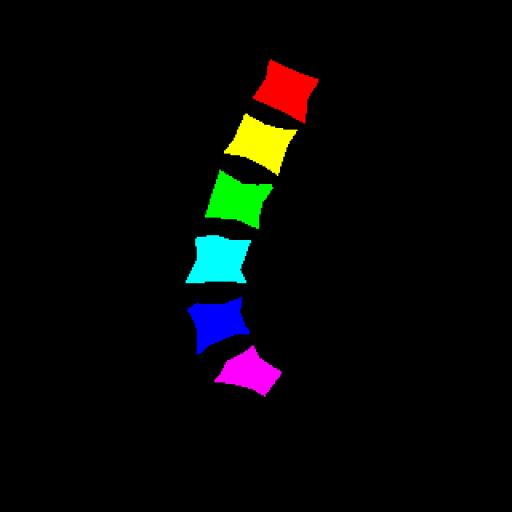L1: (253, 60, 318, 122)
L2: (224, 114, 297, 175)
L3: (205, 170, 273, 228)
L4: (186, 235, 251, 283)
L5: (187, 298, 250, 354)
S1: (214, 346, 282, 396)
